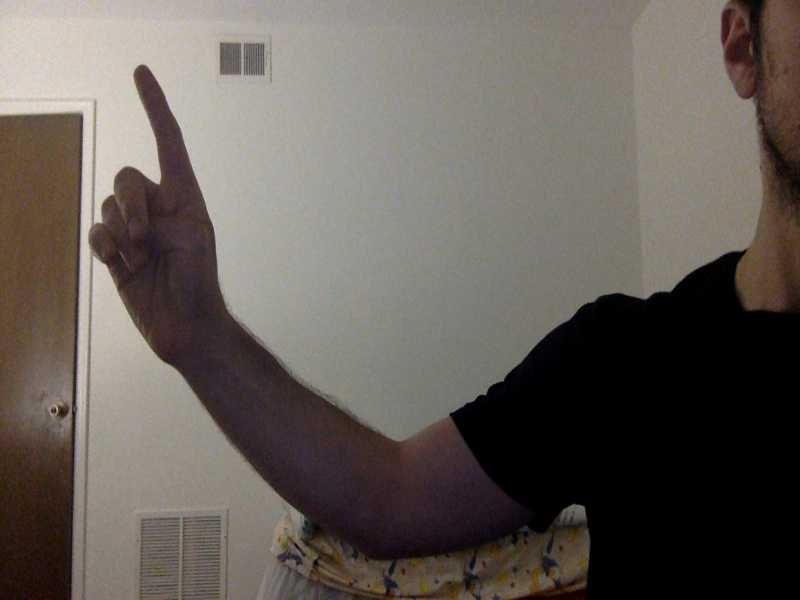1-hand: (88, 64, 227, 376)
